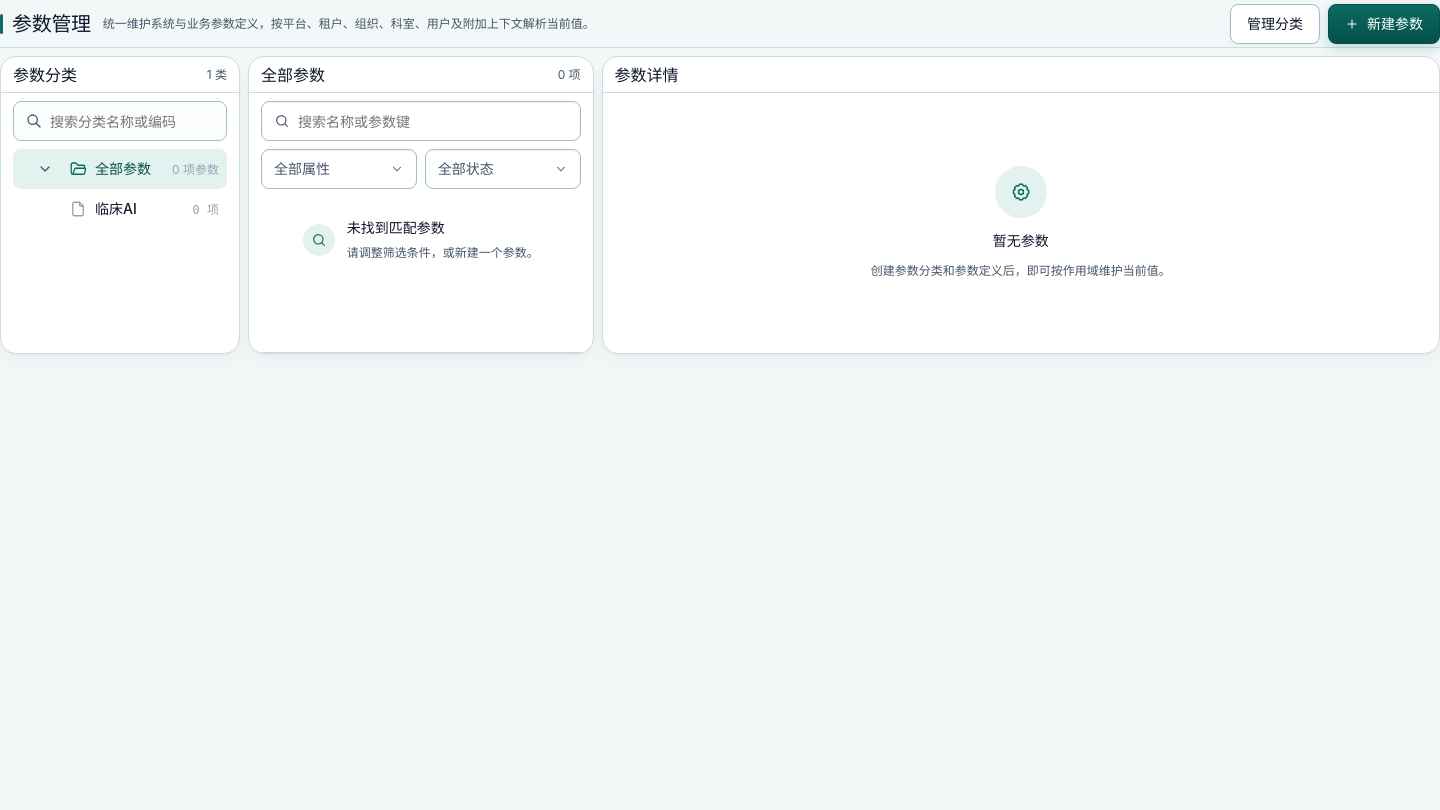
ParameterManagement category write facts › keeps the editor on refresh failure and disables submission until the tree is confirmed
Click the button "管理分类": (1275, 24) top-left (1230, 4), bottom-right (1320, 44)
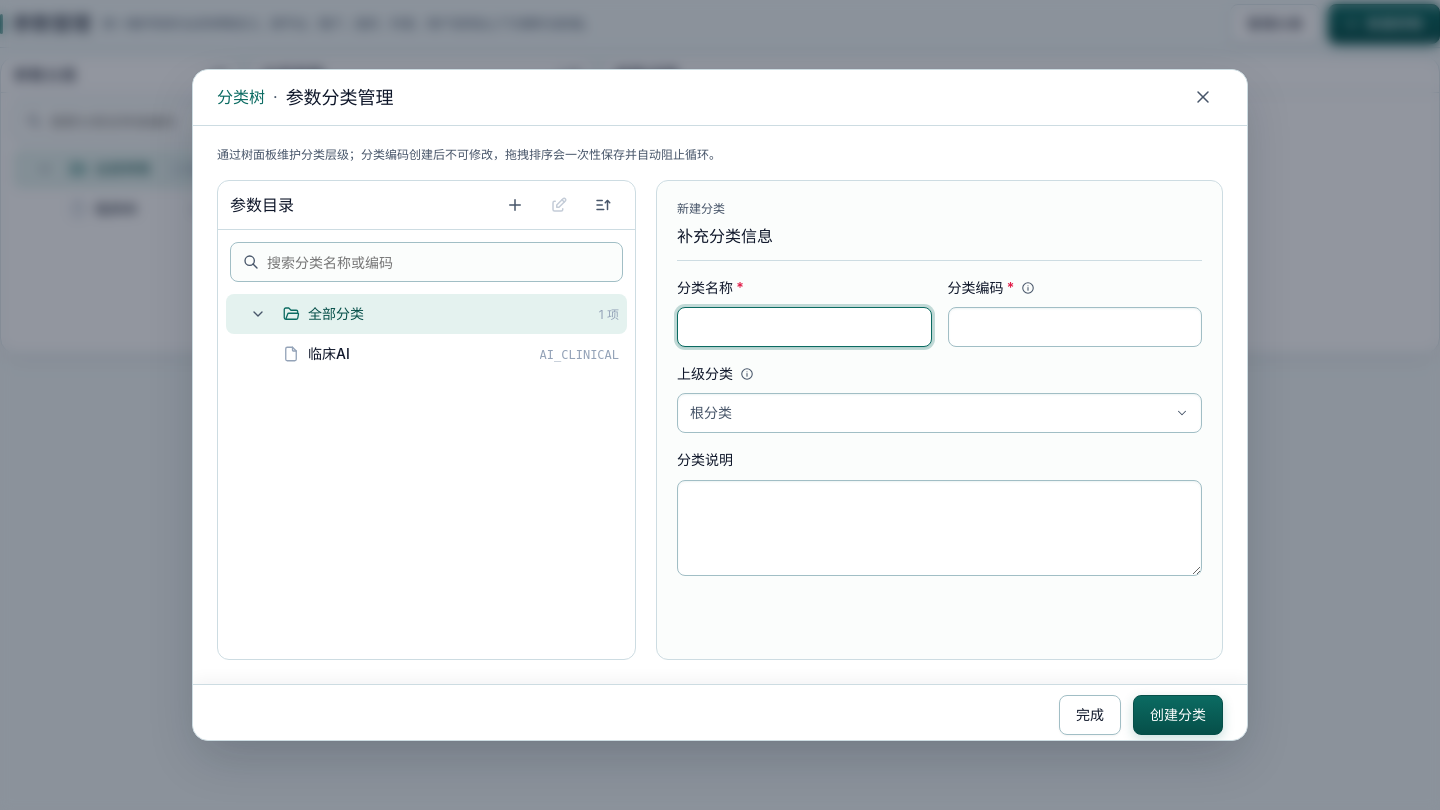
Click the list item "临床AI AI_CLINICAL": (329, 354) top-left (282, 345), bottom-right (619, 363)
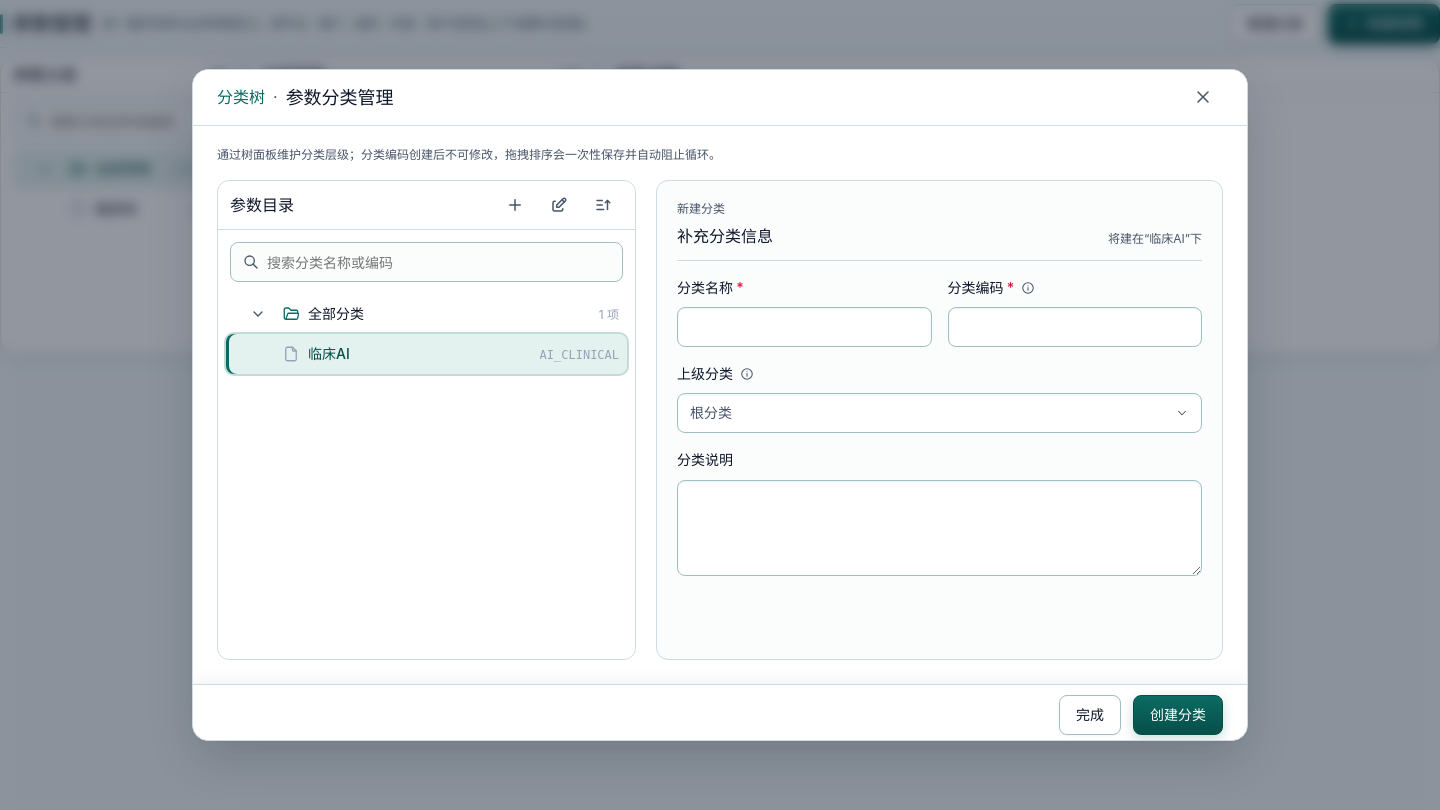
Click the button named "编辑节点": (559, 205) top-left (539, 185), bottom-right (579, 225)
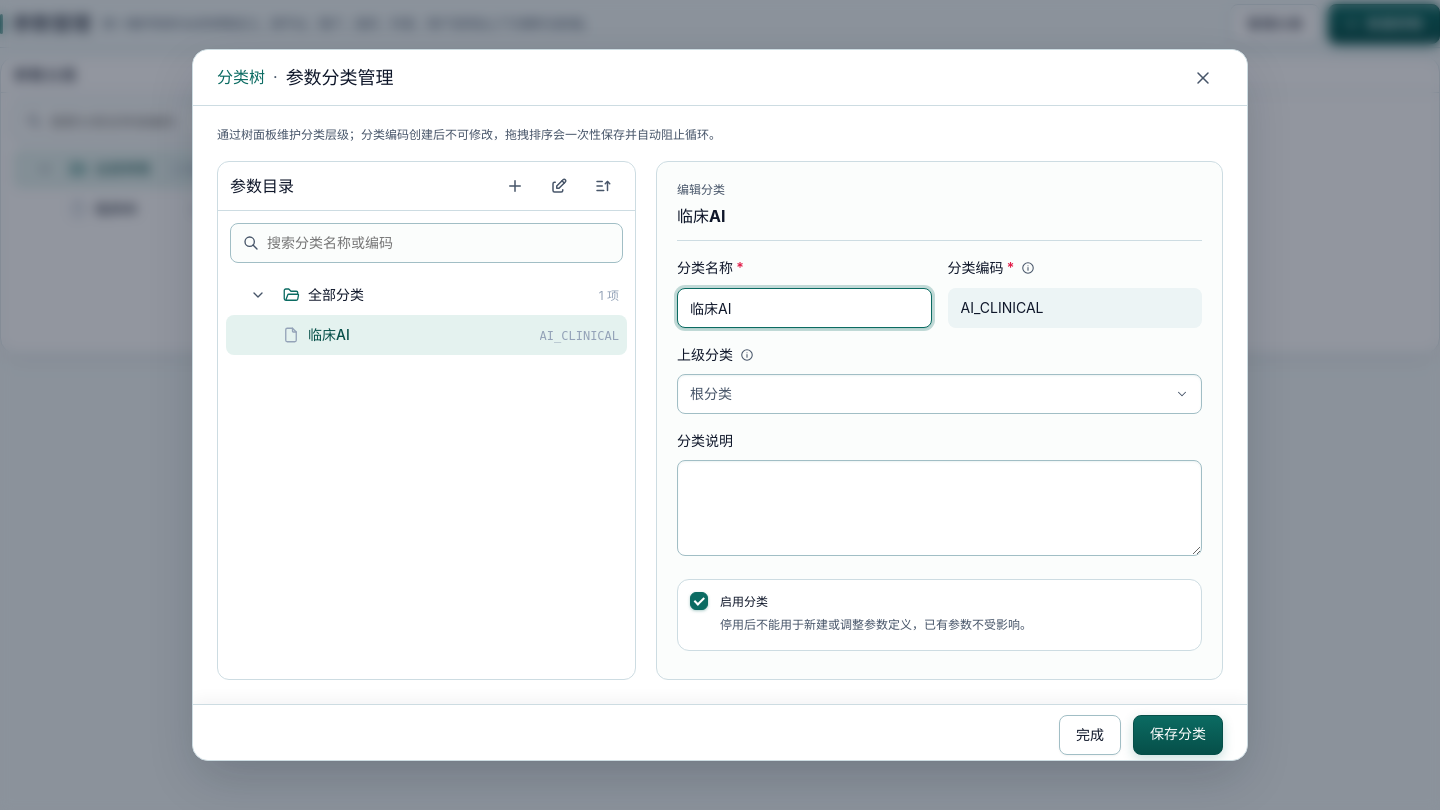
Replace the text in the field labelled "分类名称*" with "修订后的分类": (804, 308) top-left (677, 288), bottom-right (932, 328)
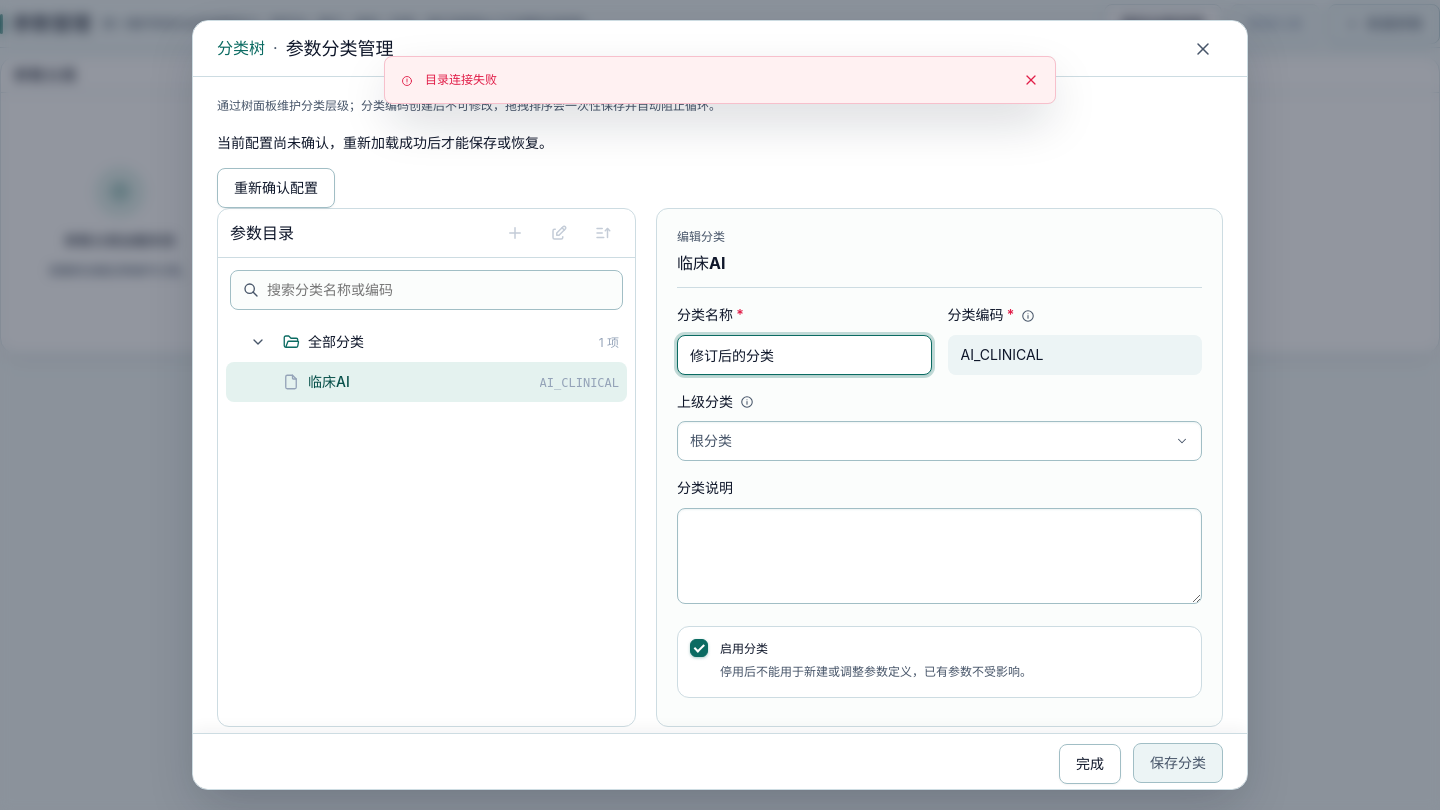
Now the button "保存分类" is disabled, box top-left (1133, 744), bottom-right (1223, 784)
Click the button "重新确认配置": (276, 188) top-left (217, 168), bottom-right (335, 208)
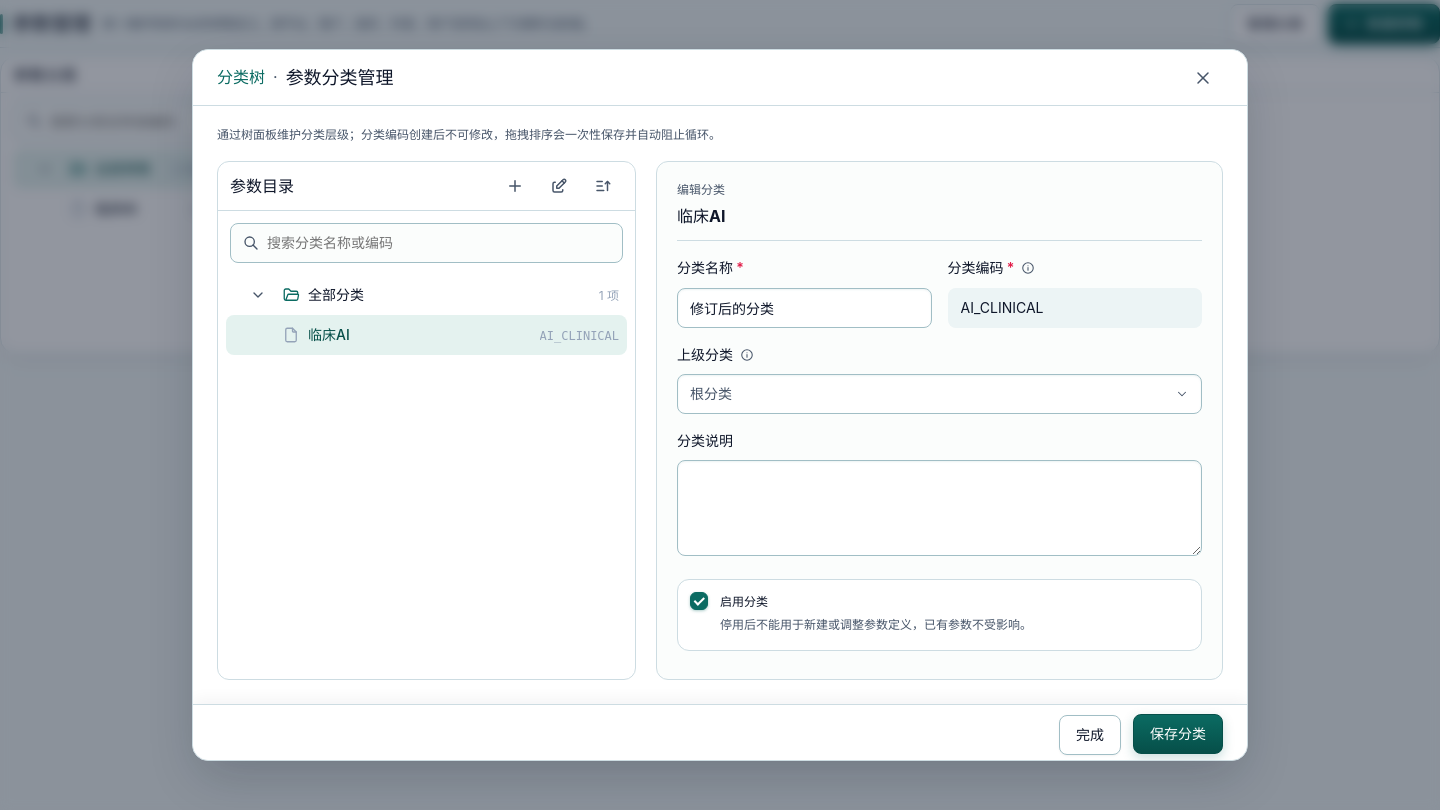
Now the button "保存分类" is enabled, box top-left (1133, 714), bottom-right (1223, 754)
